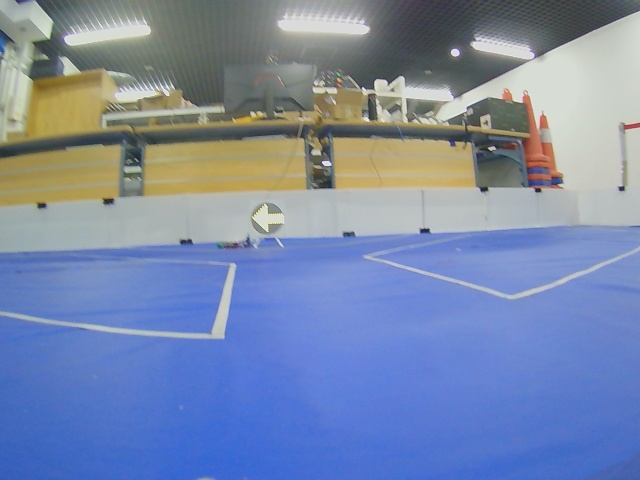left_yellow: (251, 203, 285, 235)
